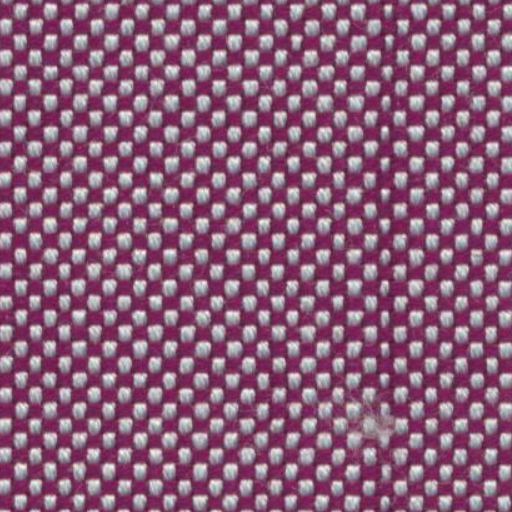TuoSha: (349, 8, 420, 504)
